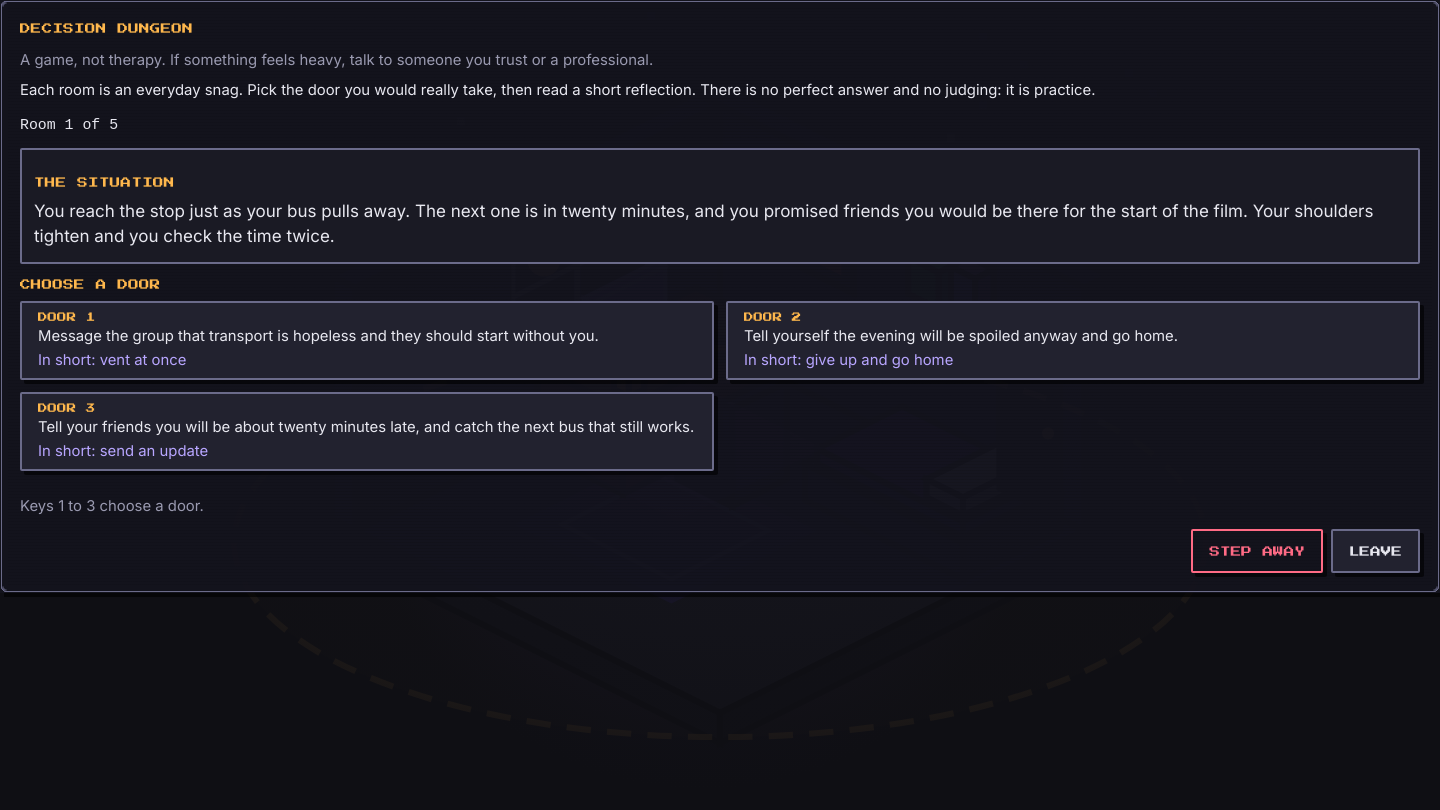
Test: Decision Dungeon screen › shows the not-therapy note and the intro, and the intro only in the first room
Expected: the text "A game, not therapy" is shown, [20,51,653,69]
Expected: the text "no judging: it is practice" is shown, [20,81,1096,99]
Click the button that starts with "Door 1". click: (367, 340)
box: [20,301,714,380]
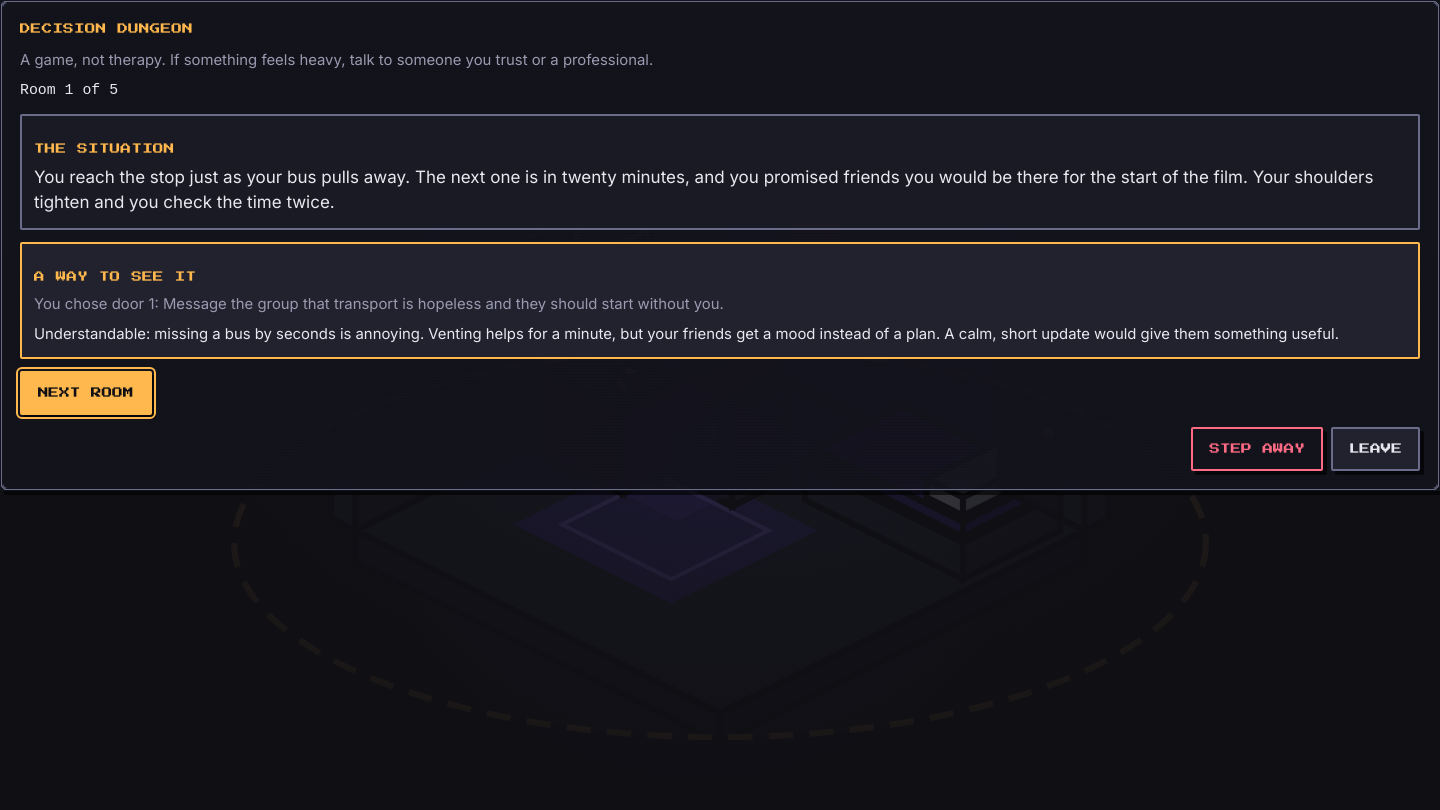
Result: the text "no judging: it is practice" is gone
